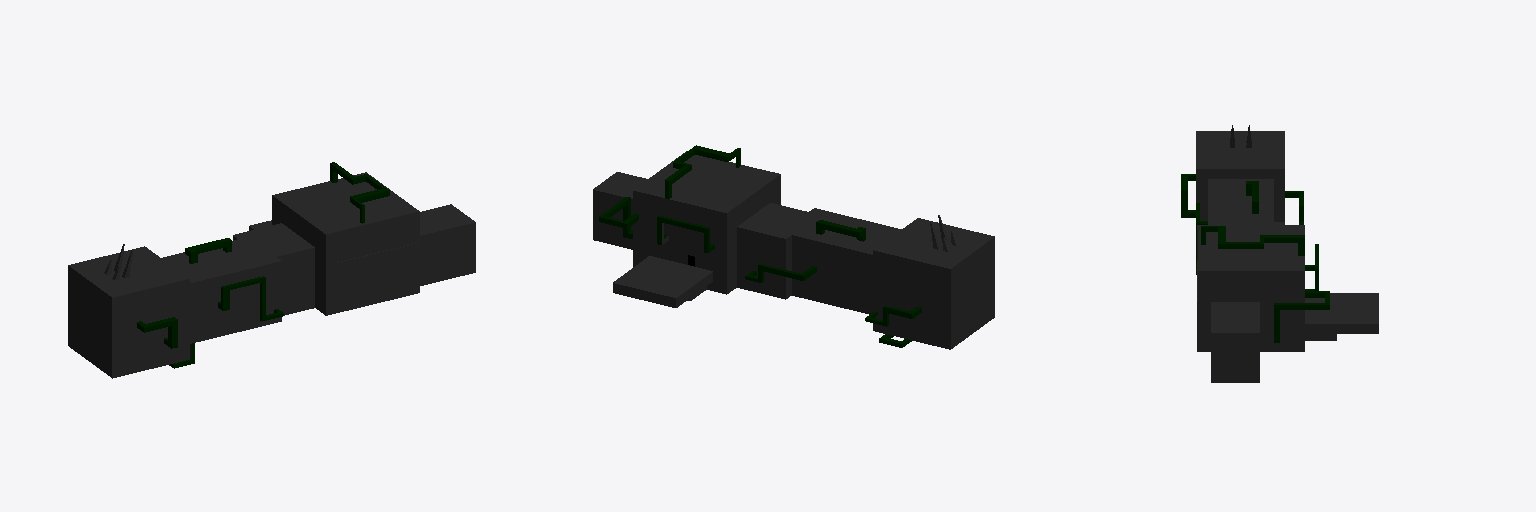
Rendered from Spaceship2.obj.
3 views of the same model, side by side, from view 1: azimuth 30°, elevation 25°; view 2: azimuth 150°, elevation 25°; view 3: azimuth 270°, elevation 25° (orthographic).
Visible parts, largest first — view 1: Cube_Cube.001; view 2: Cube_Cube.001; view 3: Cube_Cube.001.
Part boxes in pixels (x1,y1,x2,y2): Cube_Cube.001: (68,162,475,378); Cube_Cube.001: (593,145,994,349); Cube_Cube.001: (1181,125,1378,382).
Bounding box in the file's own units: 96.53 × 31.25 × 44.69.